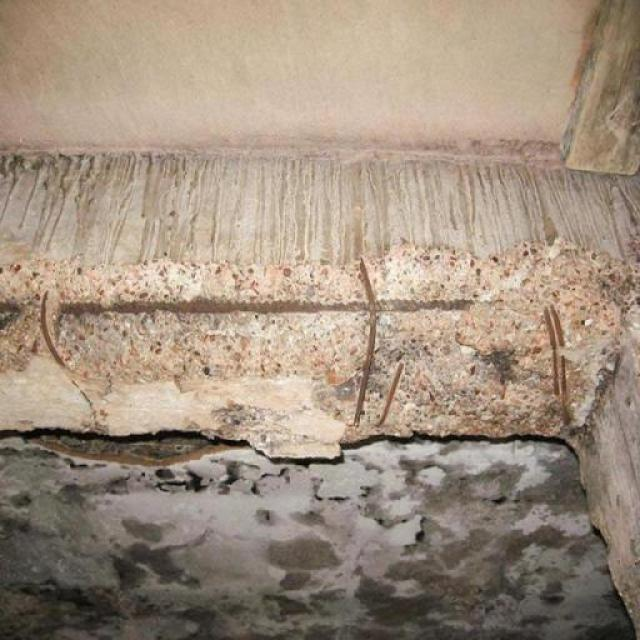D0w0: (0, 225, 639, 469)
